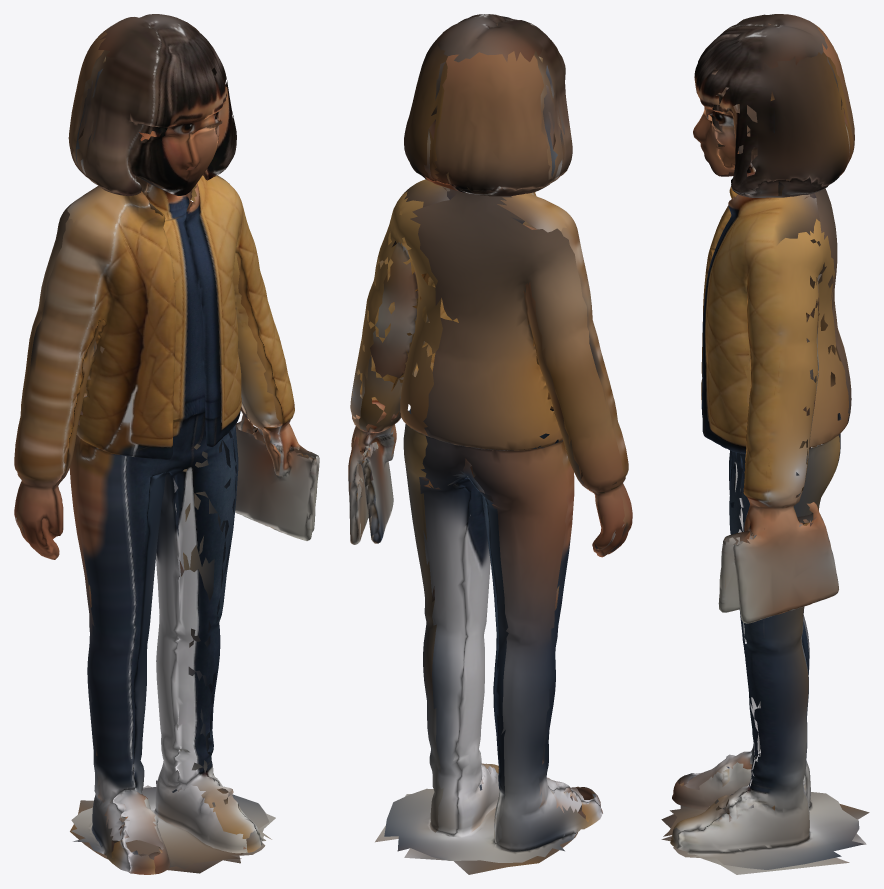
Rendered from ayla.glb.
The picture shows the model from 3 angles, left to right: view 1: azimuth 30°, elevation 25°; view 2: azimuth 150°, elevation 25°; view 3: azimuth 270°, elevation 25°; orthographic projection.
Parts seen in each view (by area): view 1: perso; view 2: perso; view 3: perso.
Boxes of the visible parts, left/top/right/bottom form: perso: left=14, top=14, right=319, bottom=874; perso: left=348, top=14, right=632, bottom=874; perso: left=661, top=14, right=869, bottom=874.
Bounding box in the file's own units: 0.7272 × 1.99 × 0.4692.
Materials: 1 (1 with a texture image).
